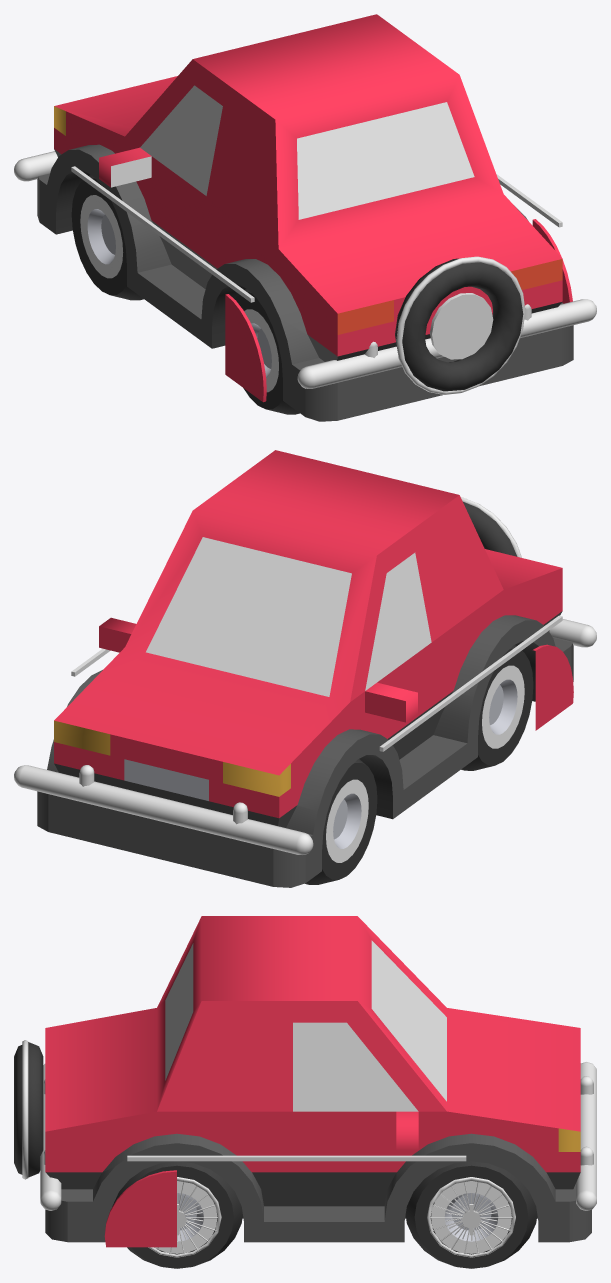
Rendered from lowrider.glb.
3 views of the same model, one above another, from view 1: azimuth 30°, elevation 25°; view 2: azimuth 150°, elevation 25°; view 3: azimuth 270°, elevation 25° (orthographic). The views are drawn at different scales.
Parts seen in each view (by area): view 1: Mesh body, continental_tire, Mesh wheel_frontLeft (×2), chrome_bumper_rear, continental_hub, skirt_l, continental_ring, chrome_spear_l, chrome_bumper_front, skirt_r, chrome_spear_r; view 2: Mesh body, Mesh wheel_frontLeft (×2), chrome_bumper_front, skirt_l, chrome_spear_l, continental_tire, chrome_bumper_rear; view 3: Mesh body, Mesh wheel_frontLeft (×2), skirt_r, wire_disc (×2), continental_tire, chrome_bumper_front, chrome_spear_r, chrome_bumper_rear, continental_ring.
Boxes of the visible parts, x1,y1,x2,y2 form: Mesh body: [37, 14, 573, 421]; continental_tire: [395, 258, 523, 391]; Mesh wheel_frontLeft (×2): [71, 174, 299, 414]; chrome_bumper_rear: [297, 299, 596, 388]; continental_hub: [430, 293, 493, 359]; skirt_l: [225, 294, 266, 402]; continental_ring: [396, 256, 525, 394]; chrome_spear_l: [71, 166, 254, 302]; chrome_bumper_front: [14, 151, 57, 181]; skirt_r: [532, 219, 572, 303]; chrome_spear_r: [496, 174, 562, 227]; Mesh body: [37, 450, 573, 887]; Mesh wheel_frontLeft (×2): [305, 645, 533, 884]; chrome_bumper_front: [14, 765, 313, 854]; skirt_l: [533, 644, 573, 730]; chrome_spear_l: [379, 615, 562, 751]; continental_tire: [463, 502, 517, 556]; chrome_bumper_rear: [549, 619, 596, 647]; Mesh body: [45, 916, 591, 1242]; Mesh wheel_frontLeft (×2): [112, 1161, 537, 1268]; skirt_r: [104, 1170, 176, 1247]; wire_disc (×2): [148, 1177, 515, 1257]; continental_tire: [14, 1042, 43, 1177]; chrome_bumper_front: [576, 1062, 596, 1210]; chrome_spear_r: [127, 1155, 466, 1161]; chrome_bumper_rear: [40, 1064, 61, 1210]; continental_ring: [22, 1040, 28, 1179].
Bounding box in the file's own units: 1.52 × 1.3 × 2.61.
